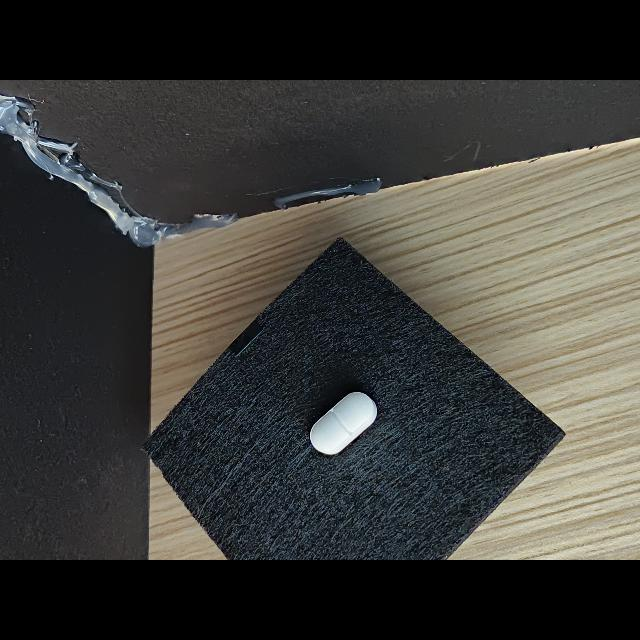Intact Pill: (310, 392, 377, 454)
